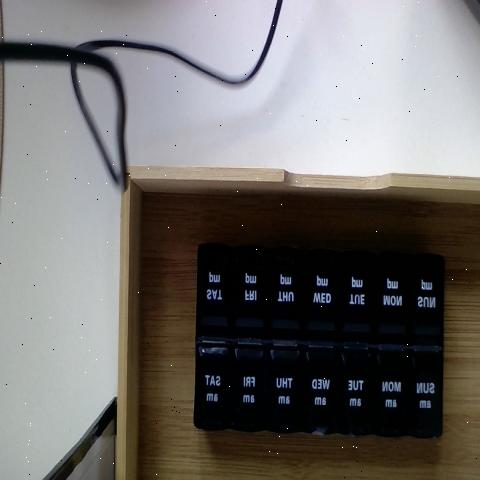FRI-am: (234, 336, 269, 424)
FRI-pm: (238, 217, 273, 302)
MON-am: (372, 340, 406, 431)
MON-pm: (373, 230, 410, 313)
SAT-am: (197, 336, 238, 425)
SAT-pm: (203, 219, 239, 310)
SUN-am: (410, 334, 444, 432)
SUN-pm: (409, 229, 444, 313)
THU-am: (269, 333, 302, 426), (340, 337, 371, 426)
THU-pm: (272, 220, 308, 316)
TUE-pm: (342, 231, 377, 314)
WED-am: (304, 340, 341, 427)
WED-pm: (308, 220, 344, 311)
